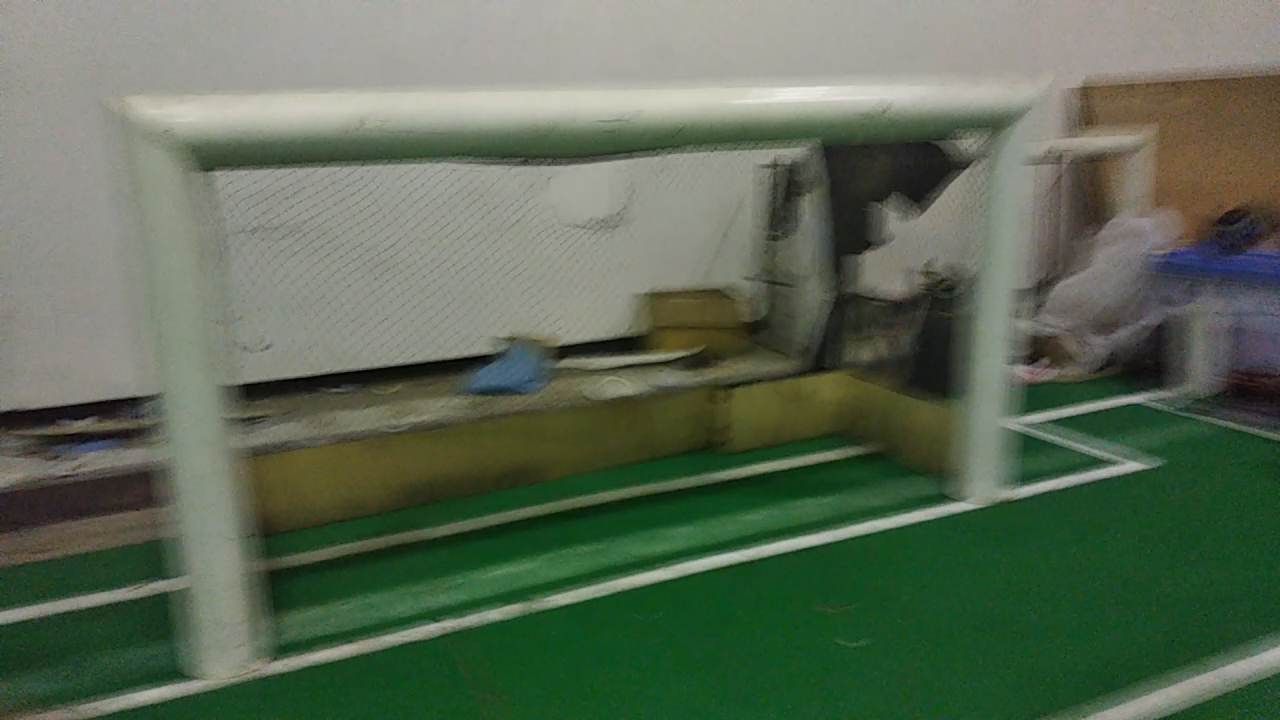gawang: (84, 62, 1098, 696)
